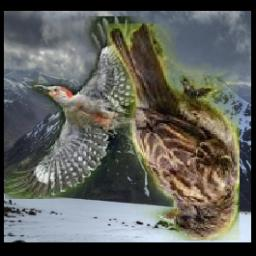Sparrow: (108, 24, 241, 241)
Woodpecker: (6, 16, 157, 199)
